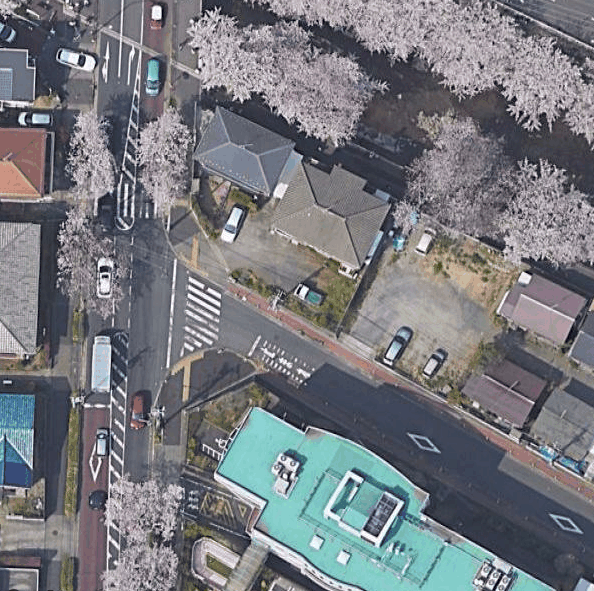rooftop: (249, 420, 466, 590)
